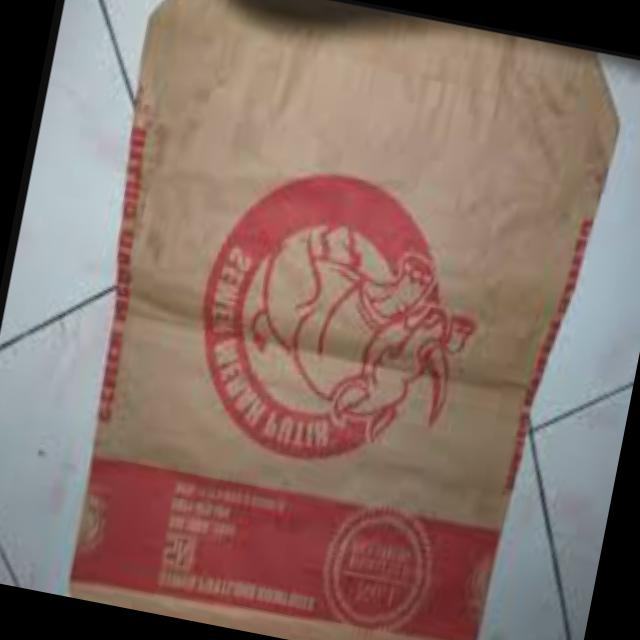KantongSemen: (63, 0, 629, 640)
